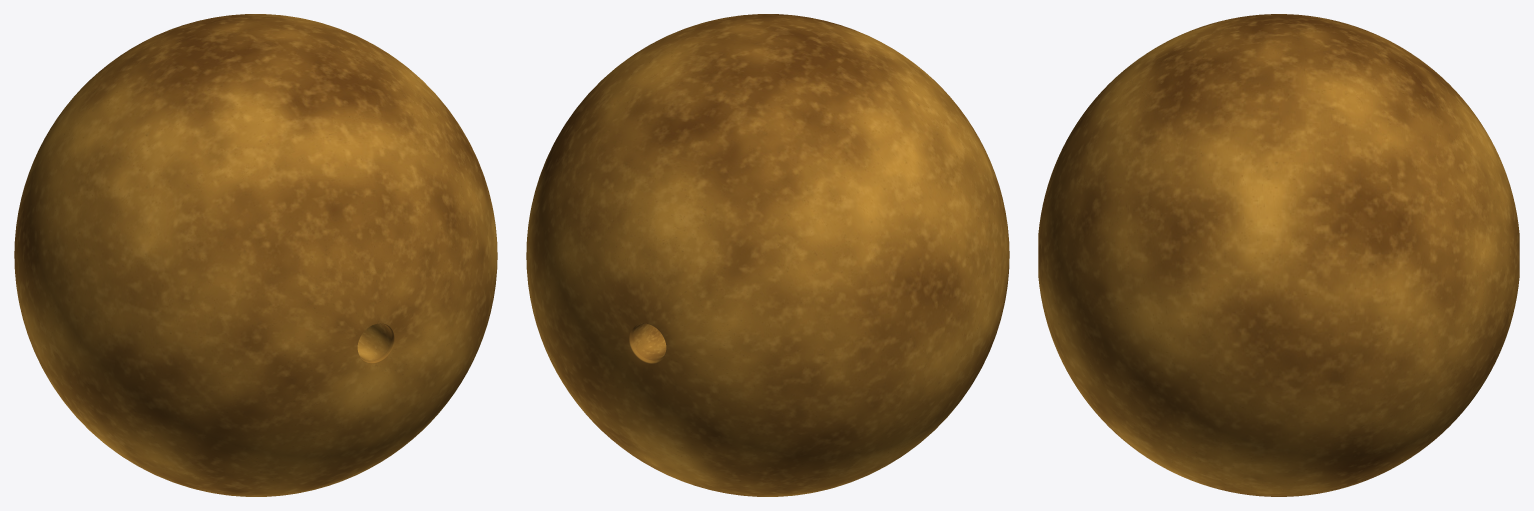
File: yellow-sapphire-12mm.glb
3 views of the same model, side by side, from view 1: azimuth 30°, elevation 25°; view 2: azimuth 150°, elevation 25°; view 3: azimuth 270°, elevation 25° (orthographic).
Parts seen in each view (by area): view 1: yellow-sapphire.001; view 2: yellow-sapphire.001; view 3: yellow-sapphire.001.
Part boxes in pixels (x1,y1,x2,y2): yellow-sapphire.001: (14,14,497,496); yellow-sapphire.001: (526,14,1009,496); yellow-sapphire.001: (1038,14,1519,496).
Bounding box in the file's own units: 0.012 × 0.012 × 0.012.
Materials: 2 (1 with a texture image).
